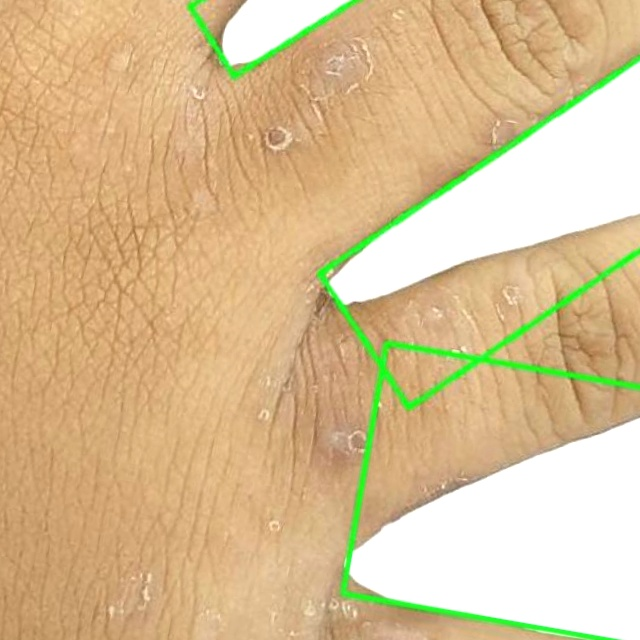Scabies: (314, 40, 639, 408), (341, 344, 639, 639)
